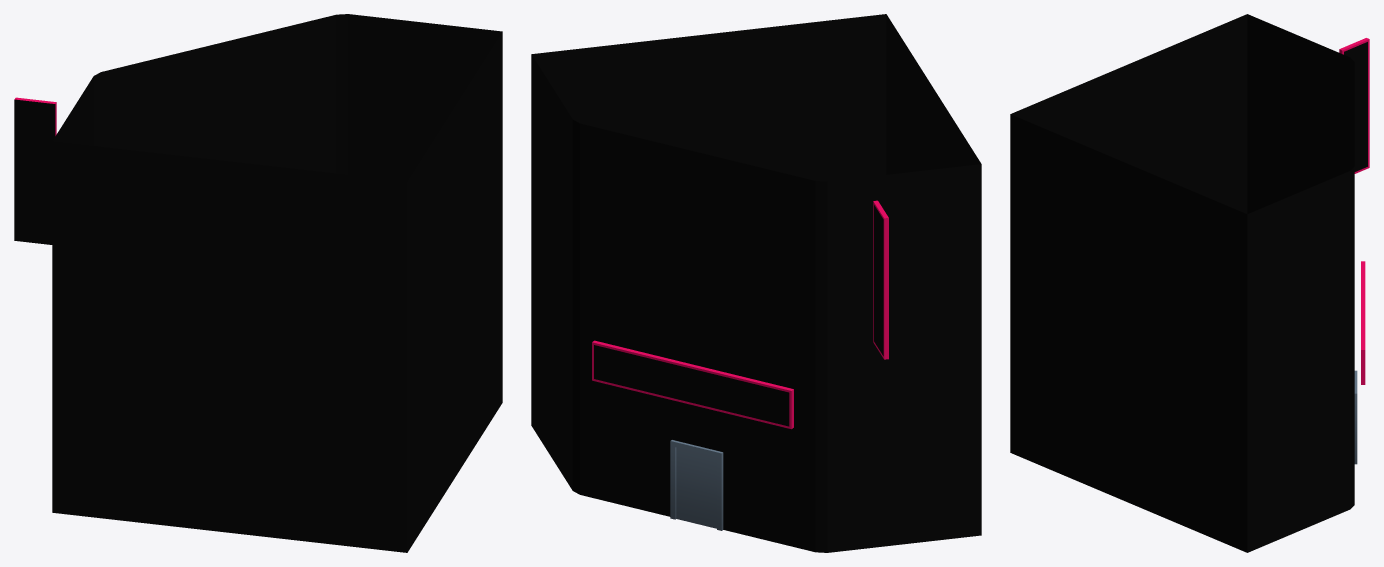
The model's file is Comercio_Edificio_Esquina_03.FBX.
3 renders of one model, left to right at view 1: azimuth 30°, elevation 25°; view 2: azimuth 150°, elevation 25°; view 3: azimuth 270°, elevation 25°, orthographic. The views are drawn at different scales.
Visible parts, largest first — view 1: Comercio_Edificio_Esquina_03; view 2: Comercio_Edificio_Esquina_03; view 3: Comercio_Edificio_Esquina_03.
Boxes of the visible parts, x1=… form: Comercio_Edificio_Esquina_03: x1=14, y1=14, x2=502, y2=552; Comercio_Edificio_Esquina_03: x1=531, y1=14, x2=981, y2=552; Comercio_Edificio_Esquina_03: x1=1010, y1=14, x2=1369, y2=552.
Size of the model in its own units: 1626 by 1232 by 1282.
